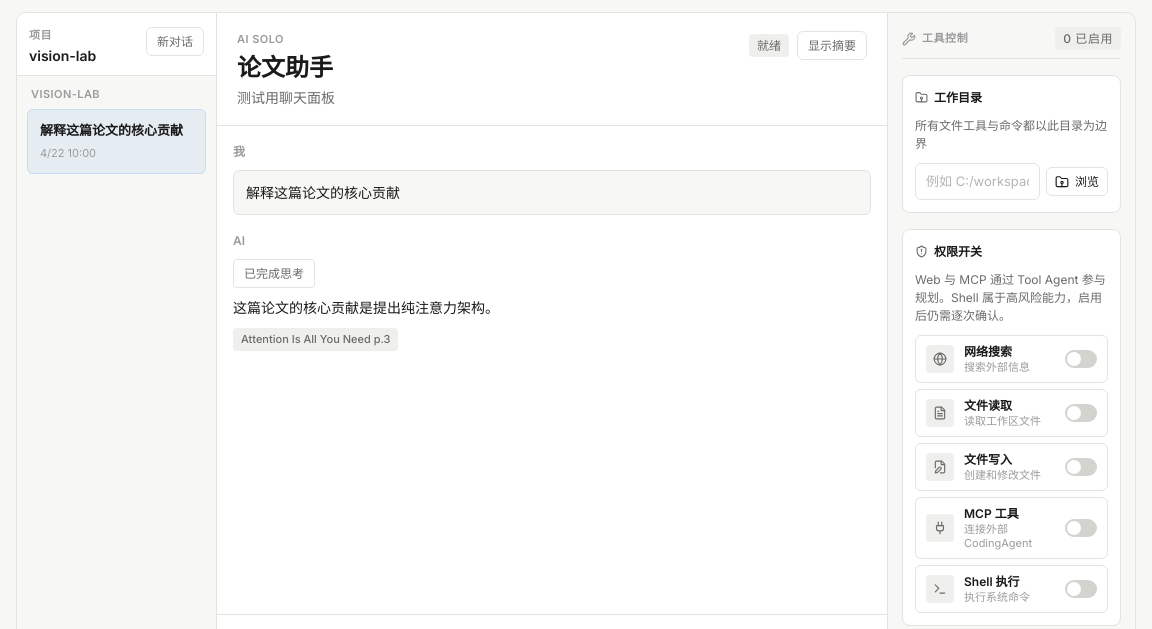
PaperLabChatPanel › 启动时从 snapshot 恢复历史 turn，并默认折叠思考轨道
The image size is (1152, 629).
Expected: the text "这篇论文的核心贡献是提出纯注意力架构。" is shown, [233,299,499,316]
Expected: the text "先总结问题，再查找核心贡献。" is not shown
Click the button "已完成思考".
click(274, 273)  # box [233,258,315,288]
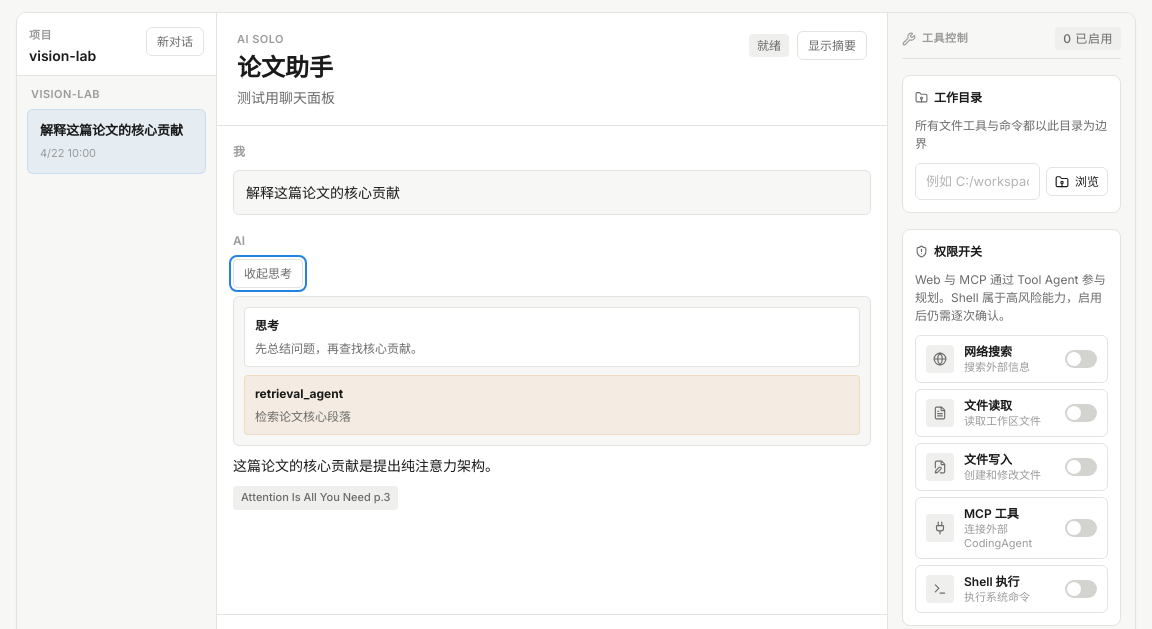
Result: the text "先总结问题，再查找核心贡献。" is shown at [255,341,423,356]
Result: the text "检索论文核心段落" is shown at [255,409,351,424]
